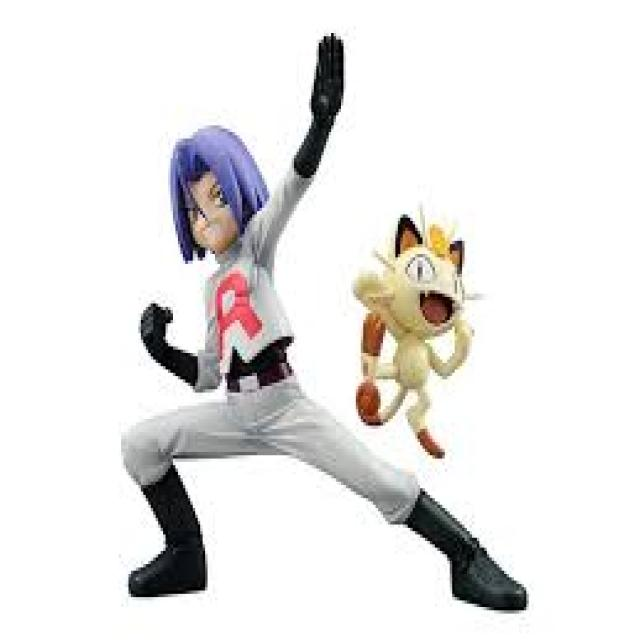Meowth: (372, 212, 466, 432)
